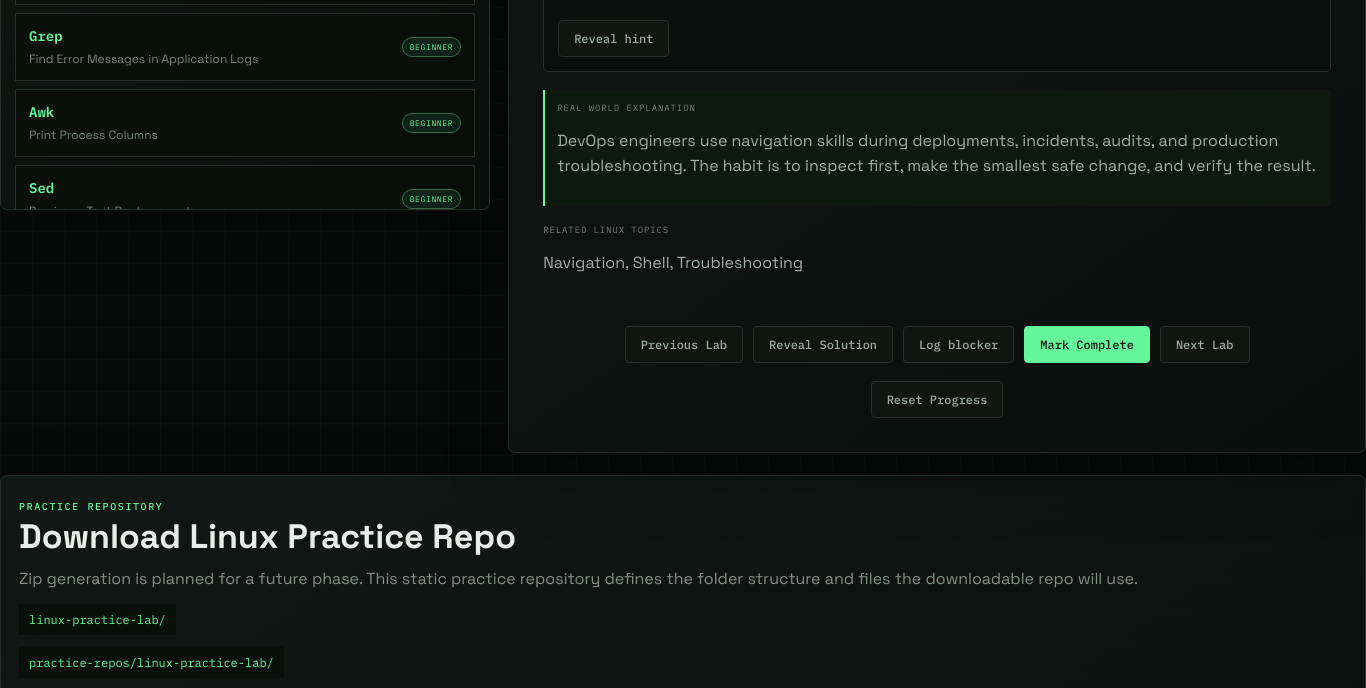
Test: Practice Labs › navigates between labs
(page scrolled)
What coordinates should you click on to do the following:
click the button "Next Lab"
I would click on:
 (1205, 345)
Its box is top-left (1160, 326), bottom-right (1250, 363).
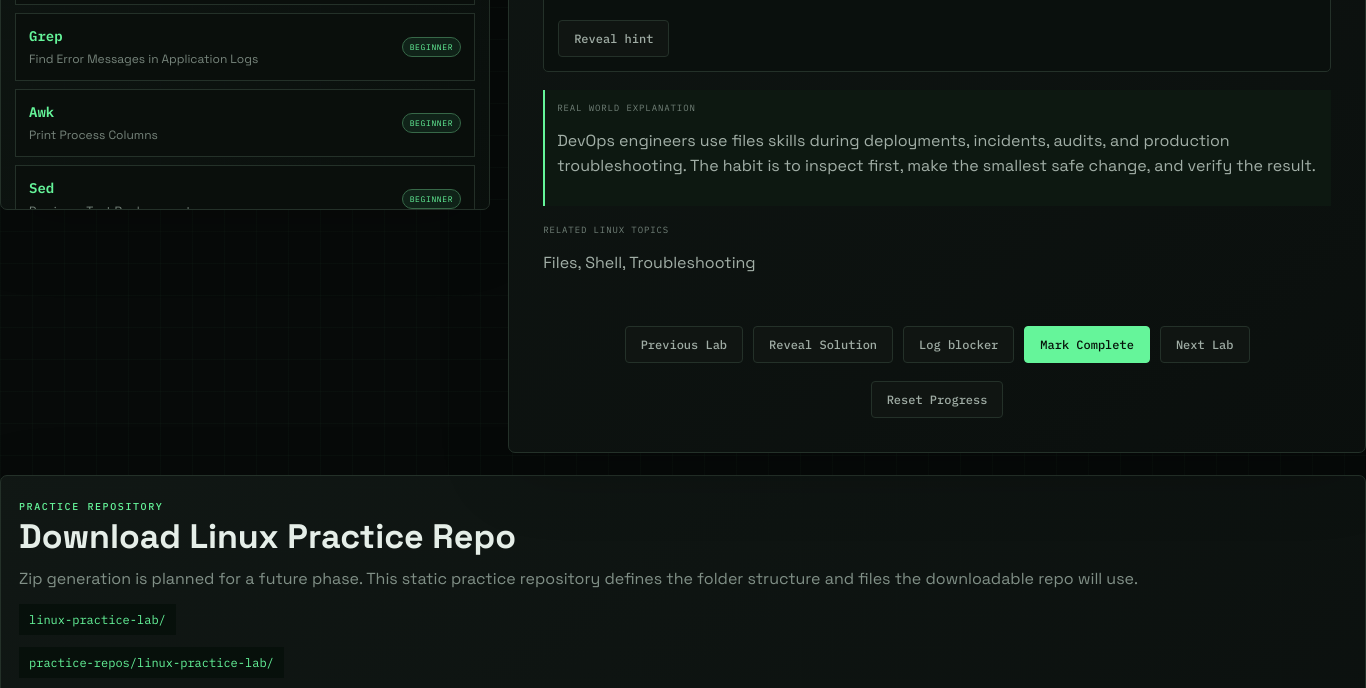
What coordinates should you click on to do the following:
click the button "Previous Lab"
I would click on:
 (684, 345)
Its box is top-left (625, 326), bottom-right (743, 363).
(page scrolled)
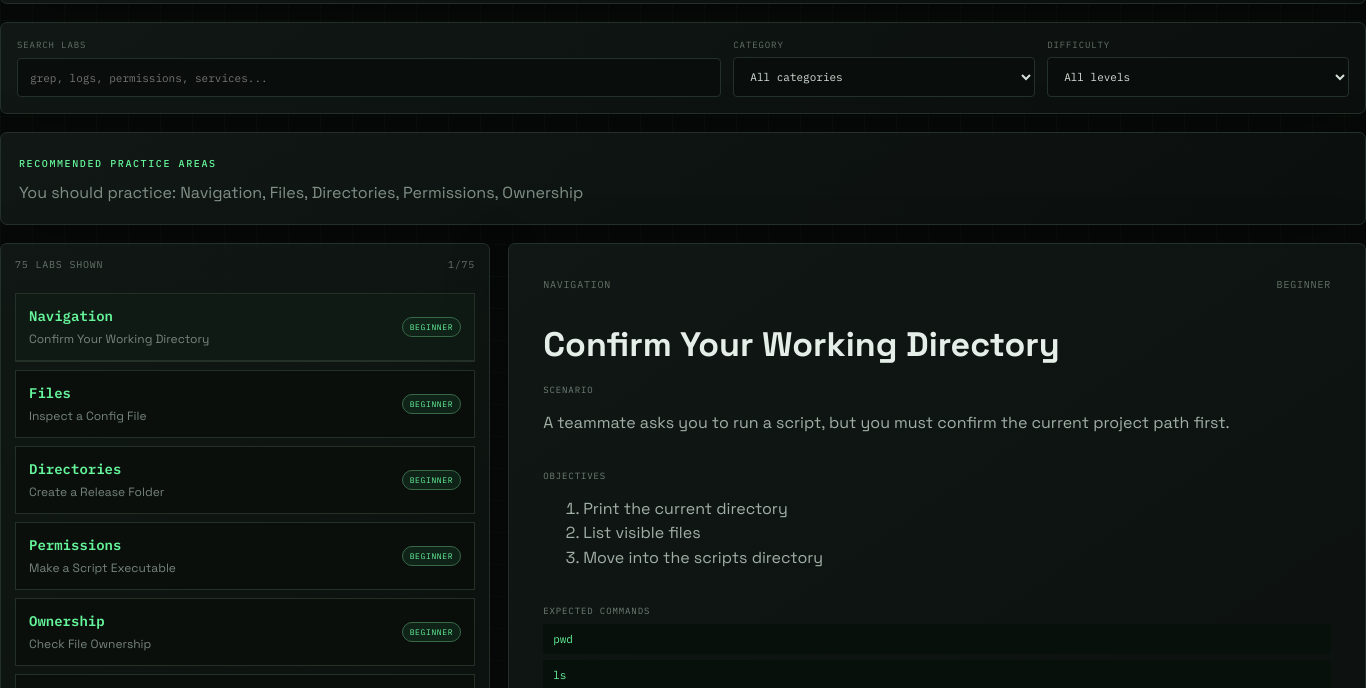
Result: the heading "Confirm Your Working Directory" is shown at top-left (543, 323), bottom-right (1060, 366)
